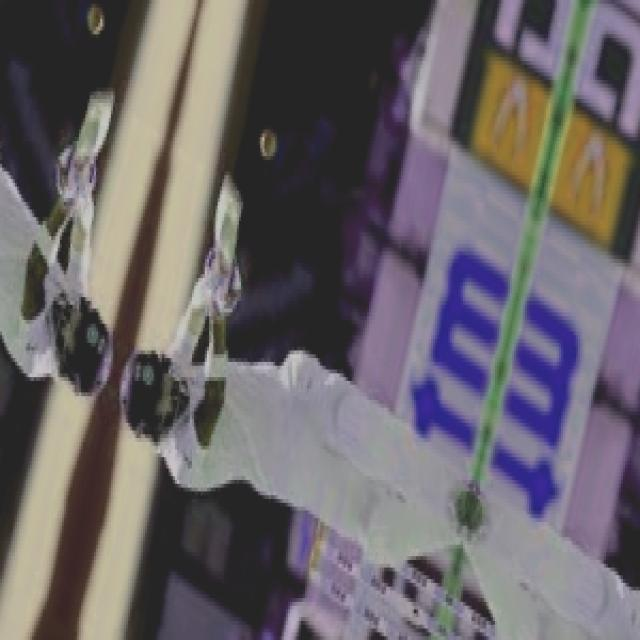toe: (221, 166, 249, 216)
